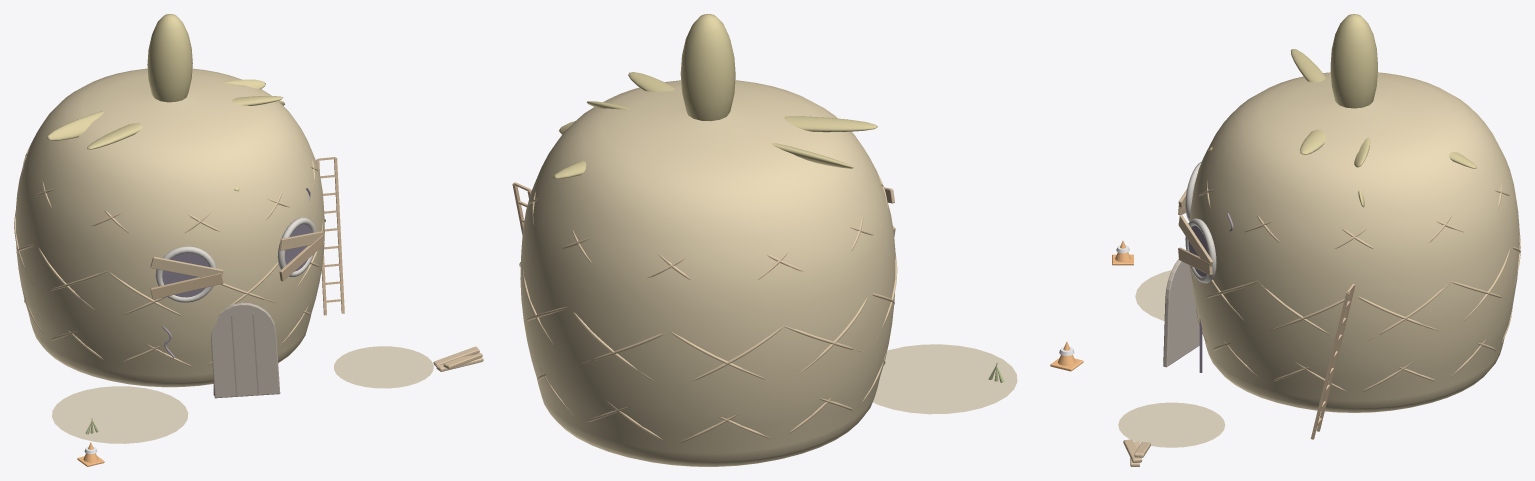
Rendered from building_fruit_L02.glb.
The picture shows the model from 3 angles, left to right: view 1: azimuth 30°, elevation 25°; view 2: azimuth 150°, elevation 25°; view 3: azimuth 270°, elevation 25°; orthographic projection. The views are drawn at different scales.
Visible parts, largest first — view 1: Body, fruit_L2; view 2: Body, fruit_L2; view 3: Body, fruit_L2.
Boxes of the visible parts, x1=… form: Body: x1=14, y1=14, x2=325, y2=398; fruit_L2: x1=52, y1=157, x2=483, y2=466; Body: x1=519, y1=14, x2=897, y2=466; fruit_L2: x1=512, y1=182, x2=1083, y2=414; Body: x1=1163, y1=14, x2=1520, y2=412; fruit_L2: x1=1112, y1=240, x2=1355, y2=466.
Size of the model in its own units: 20.56 by 15.74 by 16.79.
